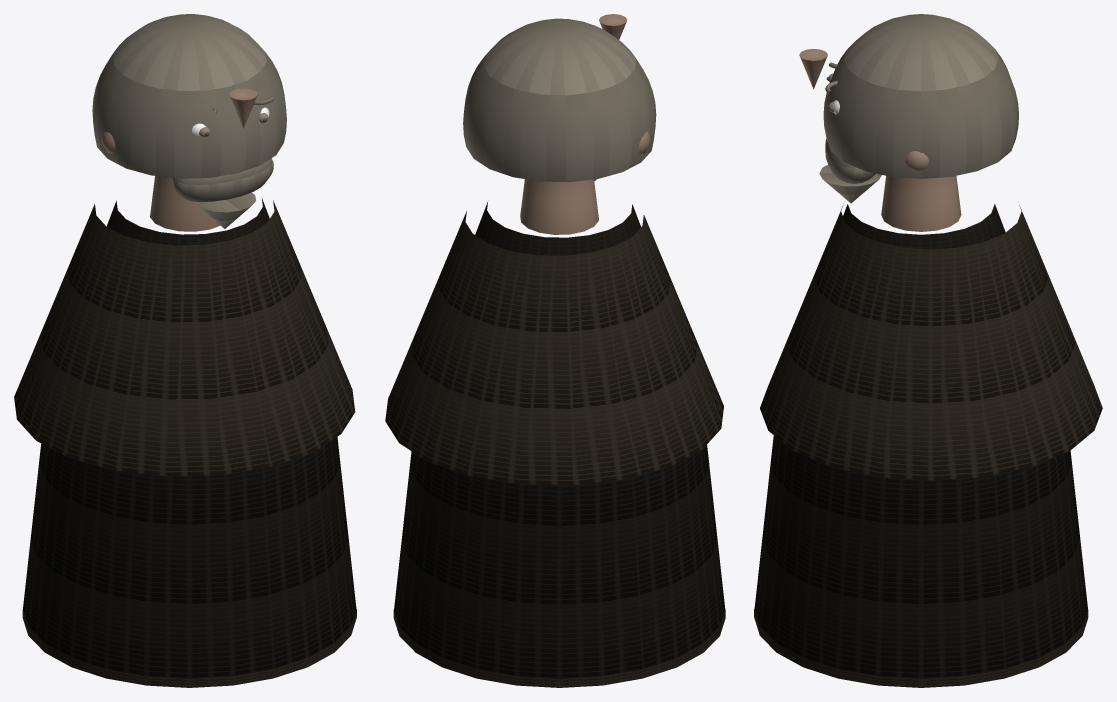
File: upper_room_prep.glb
3 renders of one model, left to right at view 1: azimuth 30°, elevation 25°; view 2: azimuth 150°, elevation 25°; view 3: azimuth 270°, elevation 25°, orthographic.
Parts seen in each view (by area): view 1: Character_upper_room_preparer; view 2: Character_upper_room_preparer; view 3: Character_upper_room_preparer.
Boxes of the visible parts, bbox=[...] form: Character_upper_room_preparer: bbox=[14, 14, 356, 687]; Character_upper_room_preparer: bbox=[385, 14, 725, 687]; Character_upper_room_preparer: bbox=[754, 14, 1102, 687].
Bounding box in the file's own units: 0.9412 × 1.8 × 0.9568.
Materials: 9 (5 with a texture image).
